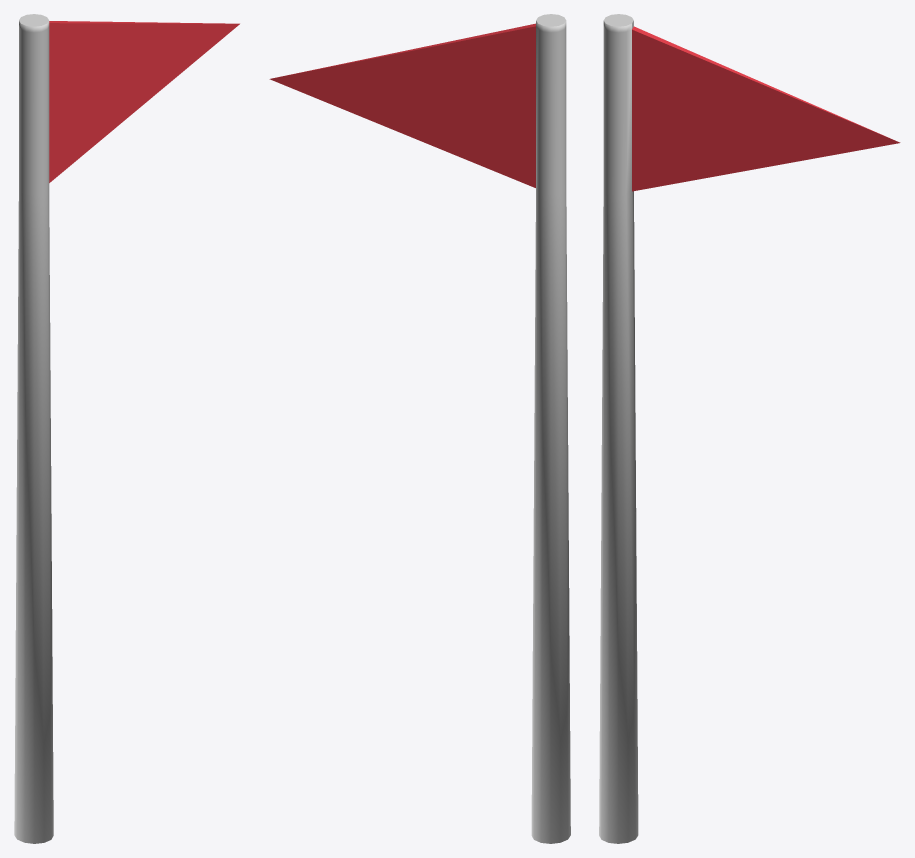
The model's file is Flag.fbx.
3 views of the same model, side by side, from view 1: azimuth 30°, elevation 25°; view 2: azimuth 150°, elevation 25°; view 3: azimuth 330°, elevation 25° (orthographic).
Parts seen in each view (by area): view 1: Cylinder; view 2: Cylinder; view 3: Cylinder.
Part boxes in pixels (<box>): Cylinder: <box>14,14,239,843</box>; Cylinder: <box>269,14,570,843</box>; Cylinder: <box>599,14,900,843</box>.
Size of the model in its own units: 128 by 382 by 40.76.
